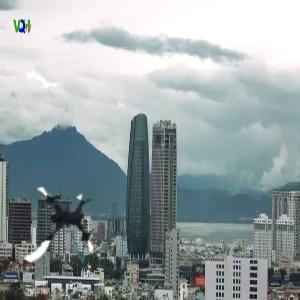drone: (9, 180, 105, 276)
